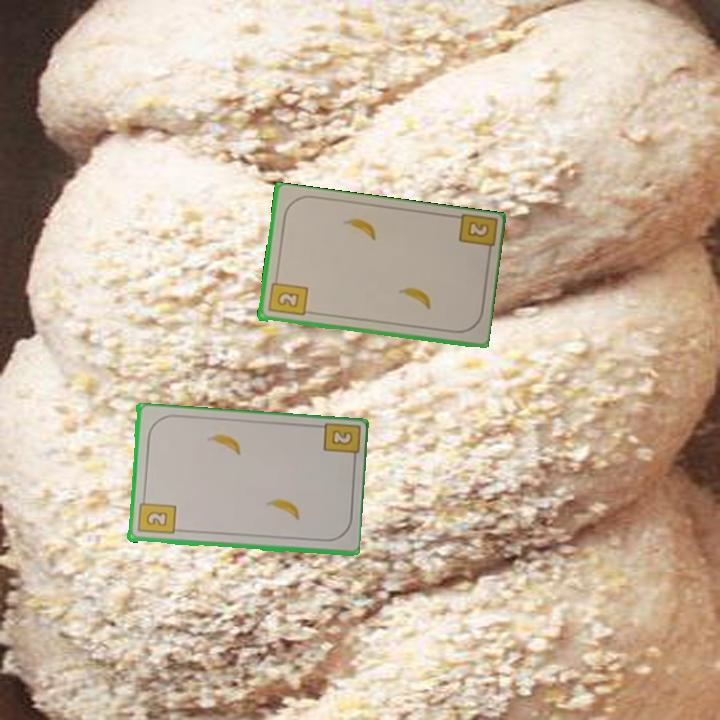2b: (265, 273, 310, 319), (455, 212, 497, 260), (134, 493, 178, 537), (319, 420, 360, 467)
